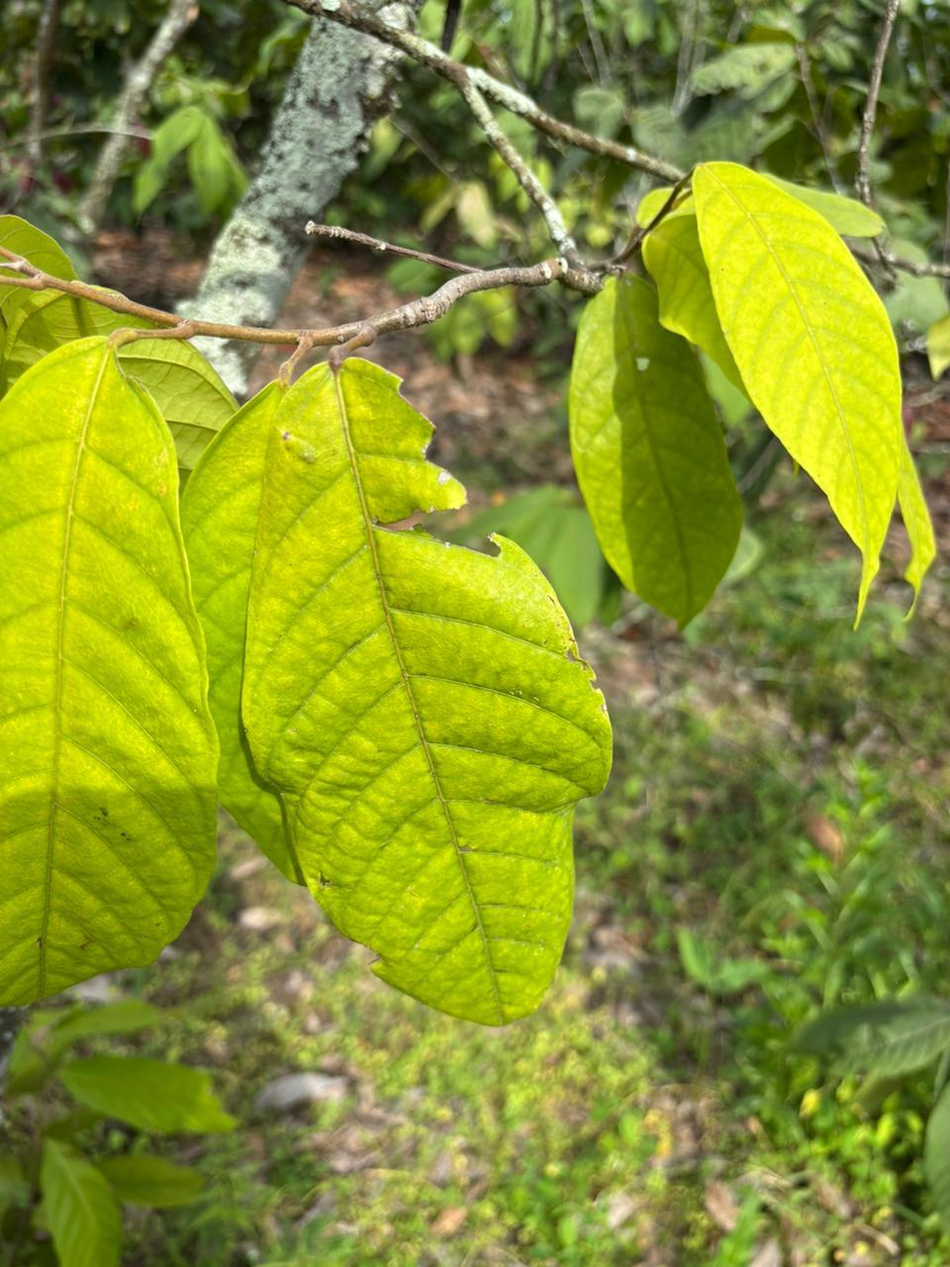deficiencia_nitrogeno: (239, 359, 611, 1023), (0, 338, 217, 1005), (693, 164, 904, 616)
